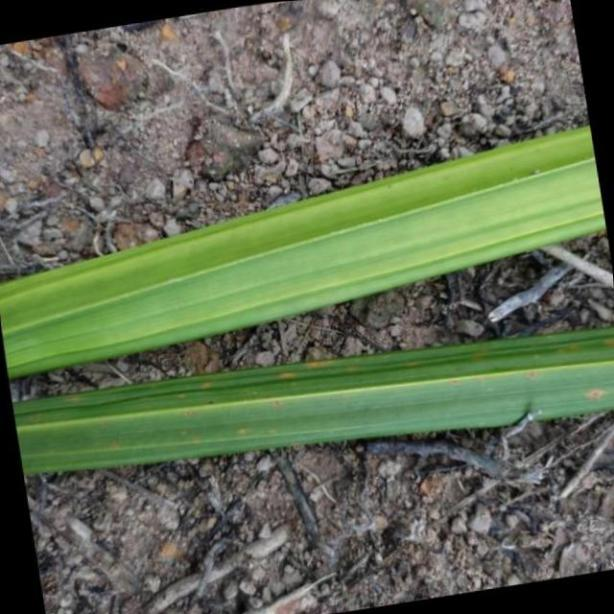nitrogen: (0, 126, 614, 468)
